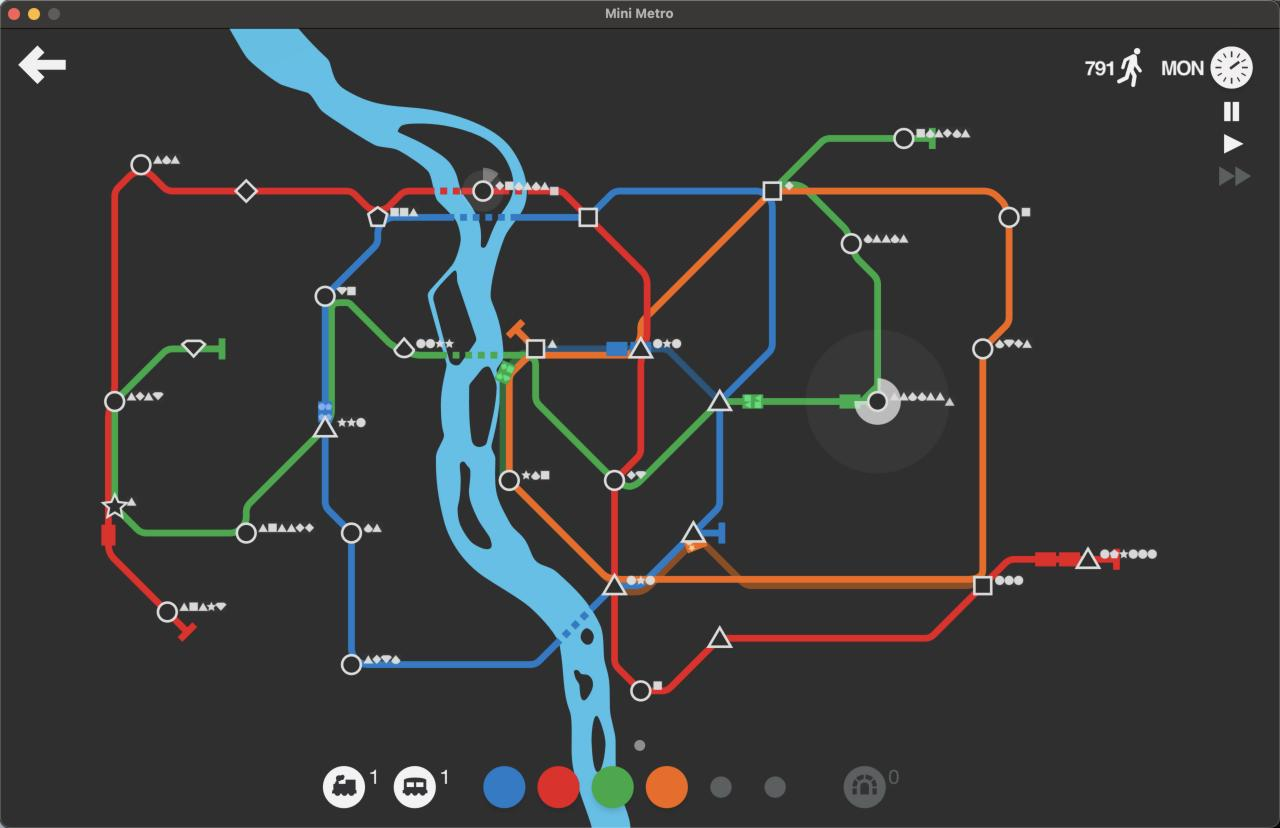CIRCLE: (313, 285, 336, 308), (103, 390, 126, 413), (630, 679, 652, 702), (235, 521, 257, 544), (341, 653, 363, 676), (840, 233, 863, 255), (130, 153, 152, 176), (156, 601, 178, 623), (472, 180, 494, 202), (998, 206, 1020, 228), (893, 127, 915, 149), (604, 469, 626, 491), (340, 522, 362, 544), (972, 337, 993, 360), (499, 469, 520, 491), (868, 392, 887, 411)
DIAMOND: (181, 339, 206, 358)
GEM: (235, 178, 258, 203)
PENTAGON: (367, 206, 387, 227)
SQUARE: (525, 338, 546, 359), (972, 575, 993, 596), (578, 207, 598, 227), (762, 181, 782, 201)
STAR: (100, 492, 135, 520)
TRIANGLE: (681, 519, 708, 550), (707, 387, 733, 413), (1076, 545, 1102, 570), (708, 625, 733, 649), (628, 337, 655, 359), (602, 573, 628, 595), (313, 416, 338, 438)
WEDGE: (394, 336, 415, 359)
